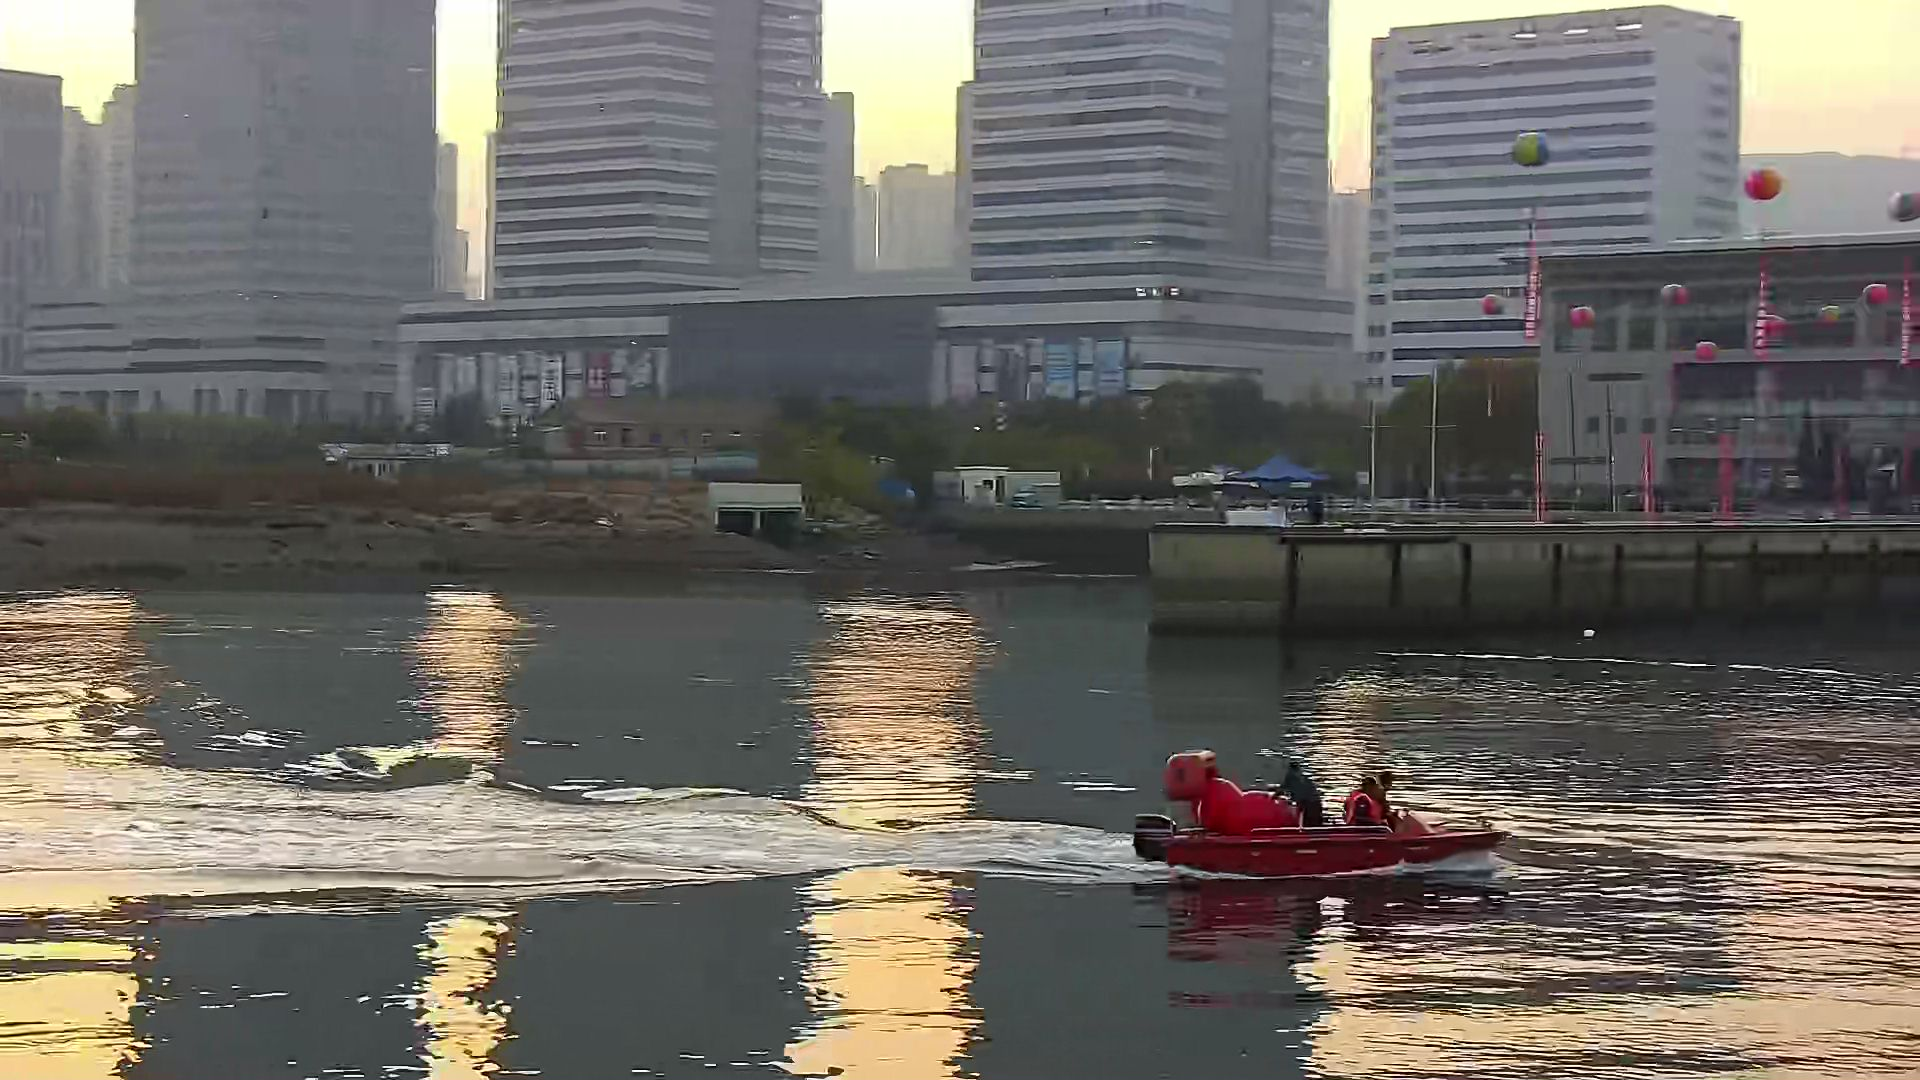boat: (1134, 745, 1506, 879)
person: (1348, 763, 1396, 845), (1274, 759, 1326, 831)
